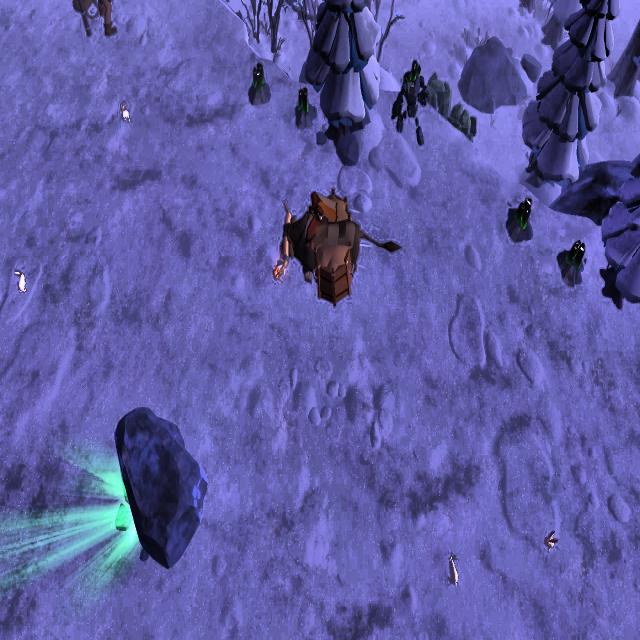mobOre_t3: (394, 56, 429, 152)
ore_t3: (558, 232, 589, 286), (506, 186, 534, 242), (292, 78, 314, 130), (246, 56, 268, 106)
rock_t3: (422, 69, 452, 122), (450, 93, 480, 143)
